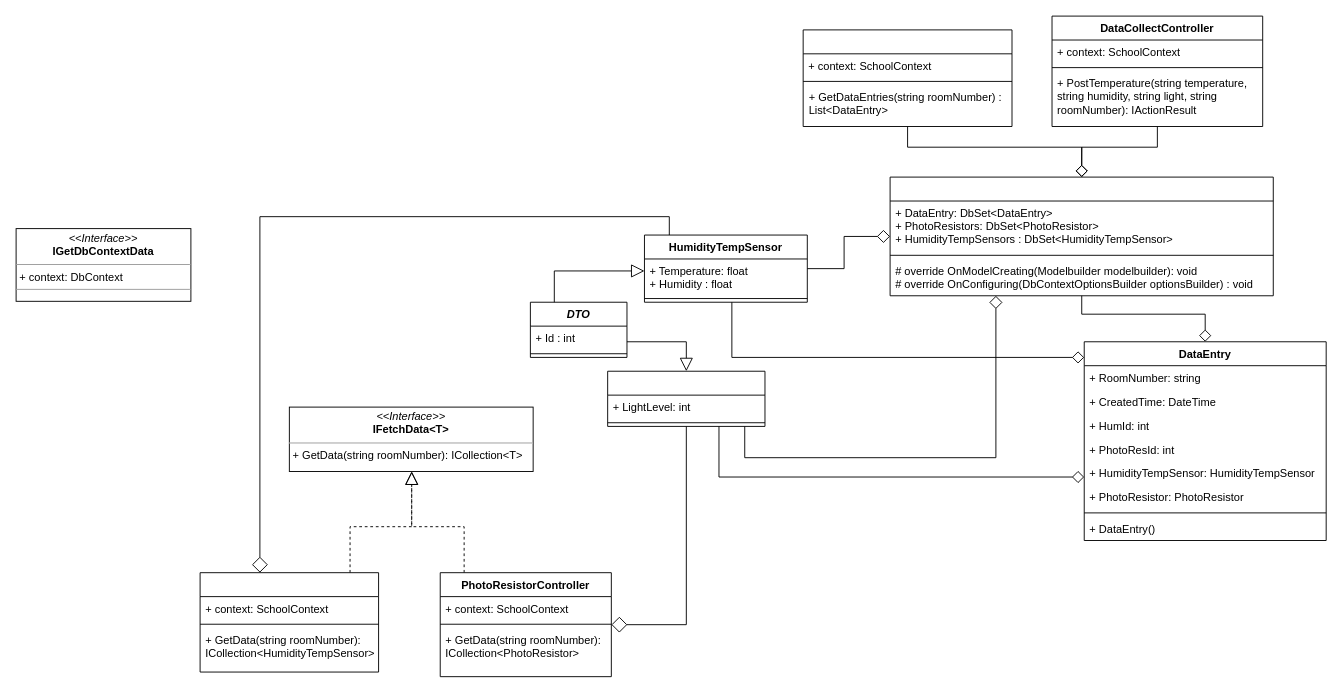
The diagram is 1342 pixels wide and 696 high, and some of its shapes have lost their labels. The box of each missing label's shape, as (x1, y1, x2, y2) in pixels:
AngularController: (802, 29, 1012, 126)
PhotoResistor: (607, 370, 765, 426)
SchoolDataContext: (889, 176, 1273, 296)
TemperatureController: (199, 572, 379, 672)
